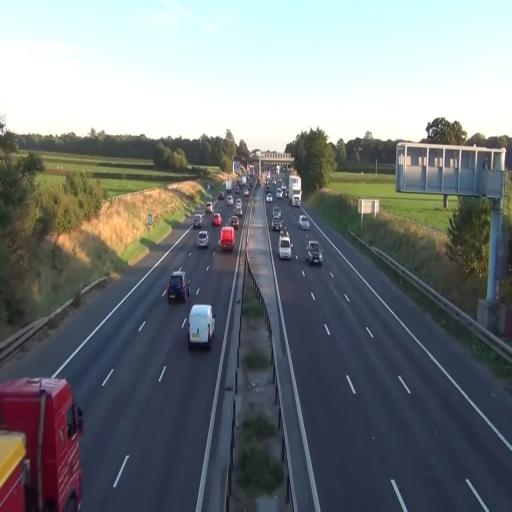vehicle: (0, 375, 84, 510), (1, 374, 84, 510), (188, 304, 216, 348), (167, 270, 189, 304), (306, 240, 323, 266), (219, 226, 235, 253), (278, 235, 293, 260), (270, 204, 282, 231), (196, 231, 210, 249), (272, 208, 282, 231), (299, 214, 311, 231)
